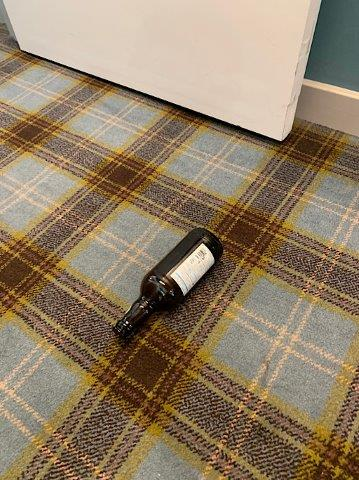botolkaca: (113, 227, 223, 338)
